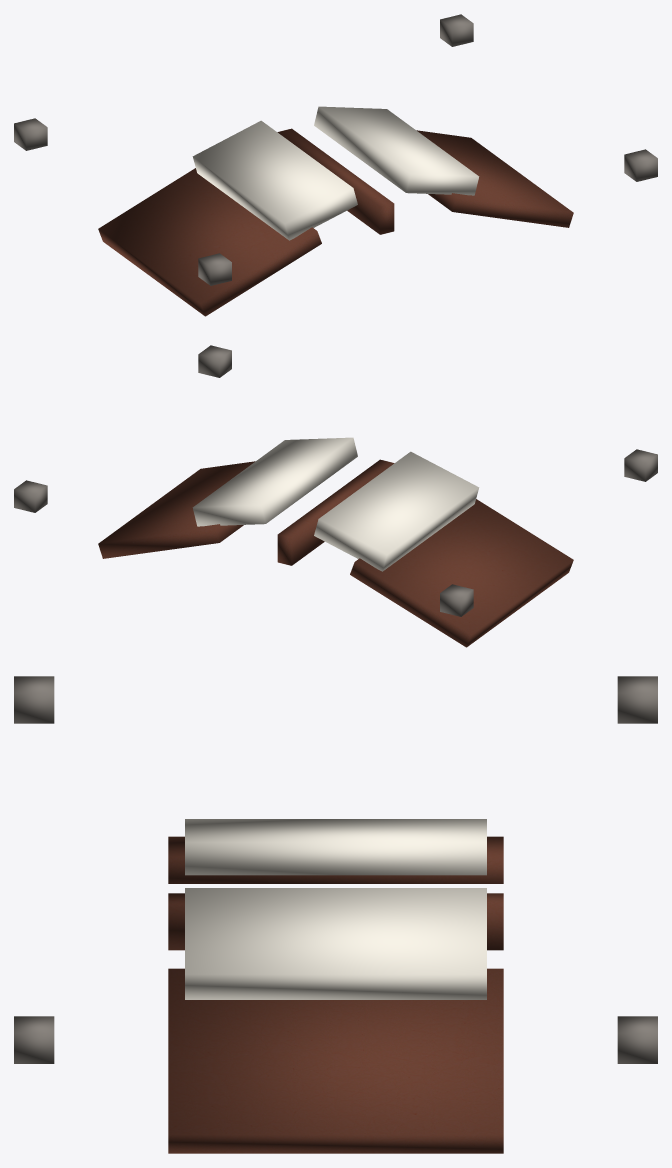
Rendered from spellbook.fbx.
3 renders of one model, top to bottom at view 1: azimuth 30°, elevation 25°; view 2: azimuth 150°, elevation 25°; view 3: azimuth 270°, elevation 25°, orthographic. The views are drawn at different scales.
Parts seen in each view (by area): view 1: spellbook; view 2: spellbook; view 3: spellbook.
Part boxes in pixels (x1,y1,x2,y2): spellbook: (14,14,657,316); spellbook: (14,345,657,647); spellbook: (14,676,657,1153).
Size of the model in its own units: 0.252 by 0.0506 by 0.192.
Materials: 3 (1 with a texture image).
